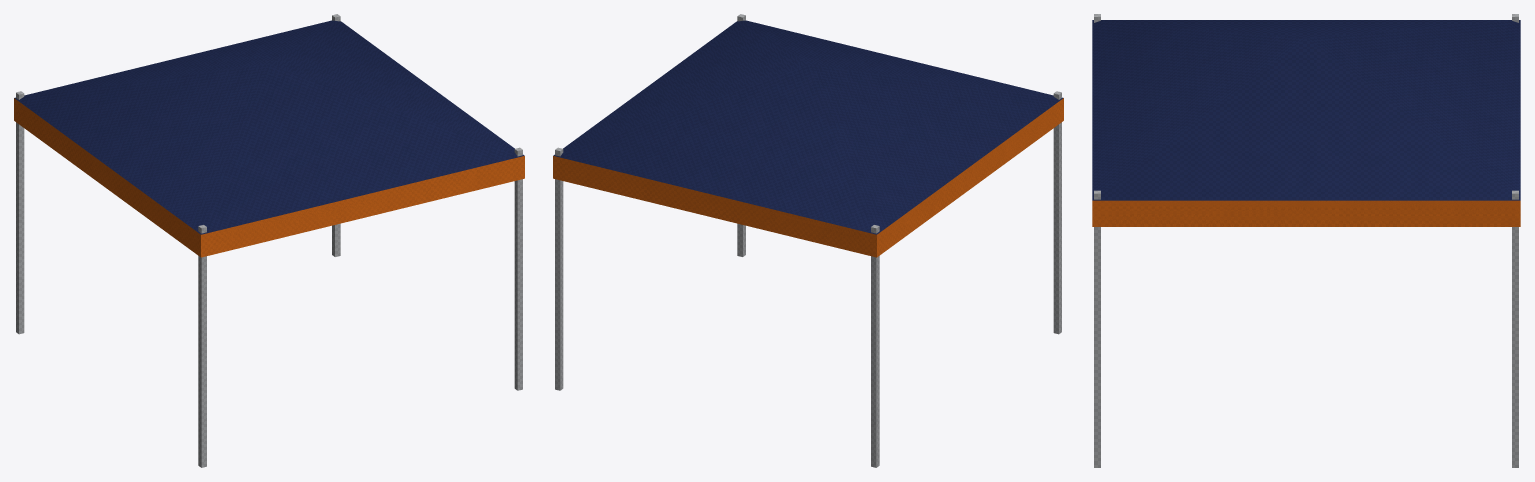
Rendered from tenda_dobravel.glb.
The picture shows the model from 3 angles, left to right: view 1: azimuth 30°, elevation 25°; view 2: azimuth 150°, elevation 25°; view 3: azimuth 270°, elevation 25°; orthographic projection. The views are drawn at different scales.
Visible parts, largest first — view 1: Inteiro, Peca_04; view 2: Inteiro, Peca_04; view 3: Inteiro, Peca_04.
Boxes of the visible parts, bbox=[...] form: Inteiro: bbox=[14, 14, 524, 467]; Peca_04: bbox=[14, 98, 524, 256]; Inteiro: bbox=[553, 14, 1063, 467]; Peca_04: bbox=[553, 99, 1063, 256]; Inteiro: bbox=[1092, 14, 1520, 467]; Peca_04: bbox=[1092, 125, 1520, 226].
Bounding box in the file's own units: 2.97 × 2.6 × 2.97.
1 material, 1 textured.
